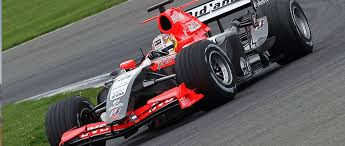f1_car: (40, 1, 320, 146)
